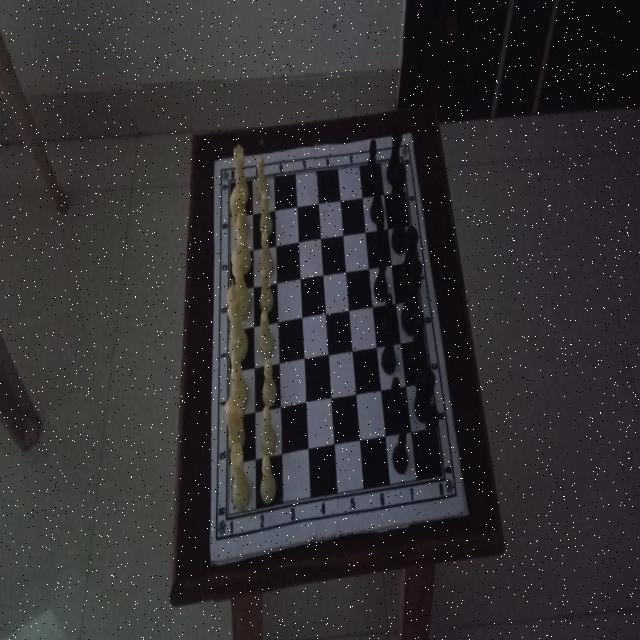corners: (205, 551, 218, 569), (460, 504, 470, 524), (212, 152, 220, 170), (406, 127, 414, 143)
